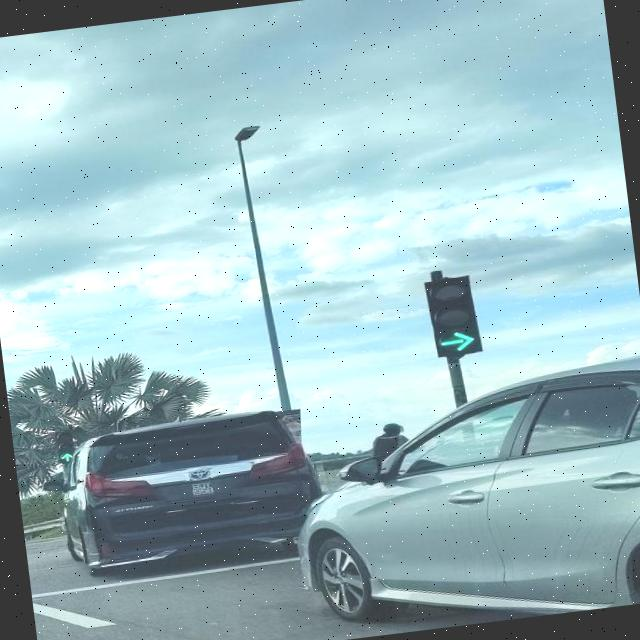green_light: (423, 274, 482, 359)
